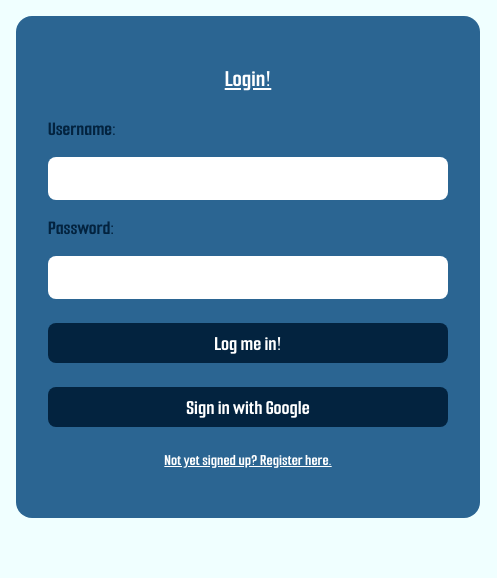
Test case: handleSubmit › API error causes error message to render
The image size is (497, 578).
Type "usernameMe" into the field labelled "Username:". click: (248, 178)
box: [48,157,448,200]
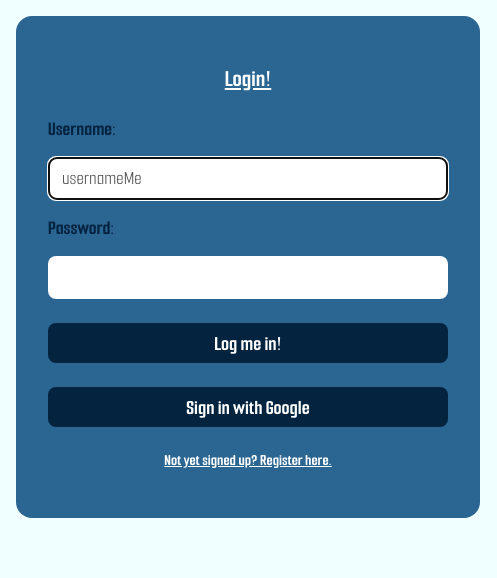
Type "Password123!" into the password field labelled "Password:". click: (248, 278)
box: [48,256,448,299]
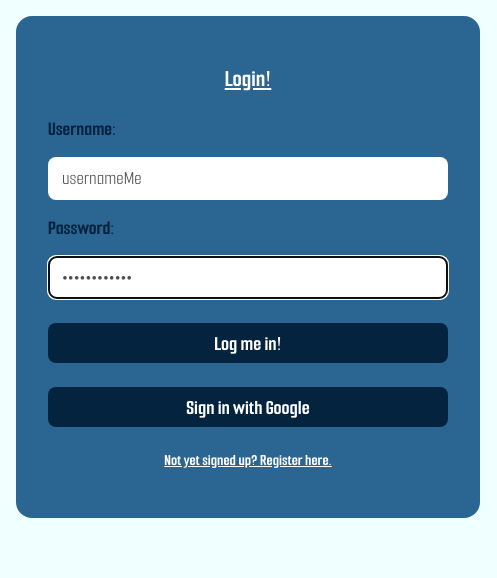
Click the button "Log me in!". click: click(248, 343)
box: [48,323,448,363]
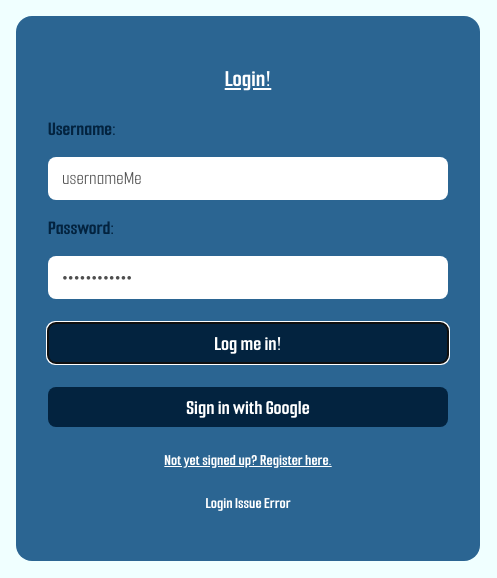
Expected: the text "Login Issue Error" is shown, [206,494,290,513]
